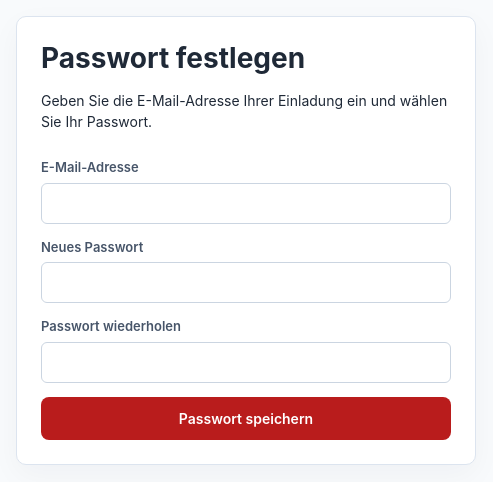
ChangePassword invitation › submits the UUID, email and chosen password and offers login after success
The image size is (493, 482).
Type "user@example.com" into the field labelled "E-Mail-Adresse" at (246,203), box [41, 182, 451, 224]
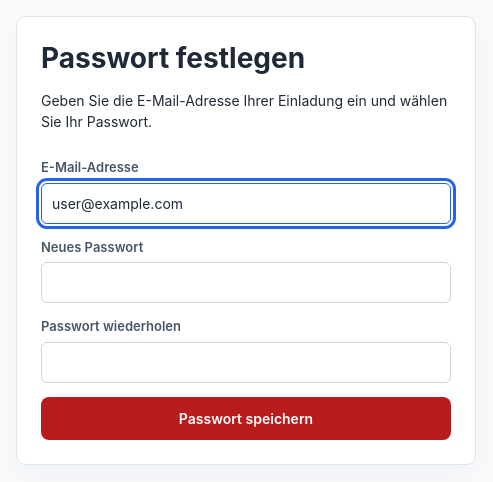
Type "NewPassword123" into the password field labelled "Neues Passwort" at (246,282), box [41, 262, 451, 303]
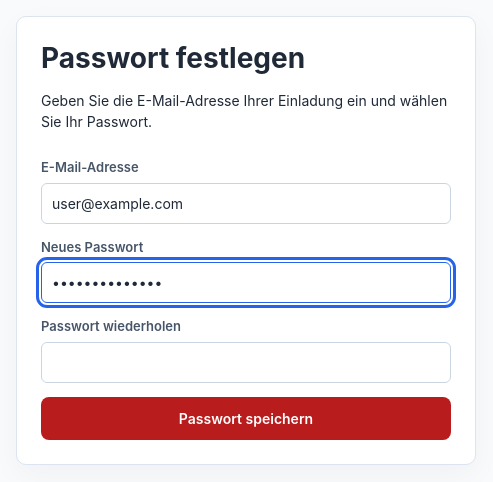
Type "NewPassword123" into the password field labelled "Passwort wiederholen" at (246,362), box [41, 342, 451, 382]
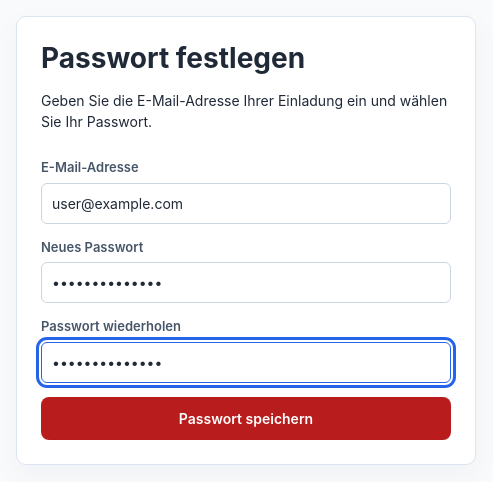
Click the button "Passwort speichern" at (246,418), box [41, 396, 451, 440]
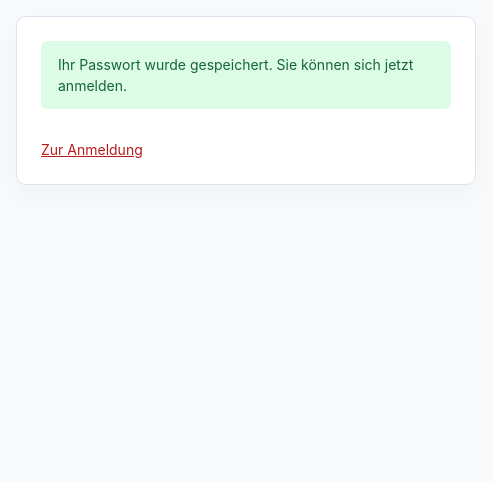
Now the message shows "Passwort wurde gespeichert", box [58, 56, 413, 94]
